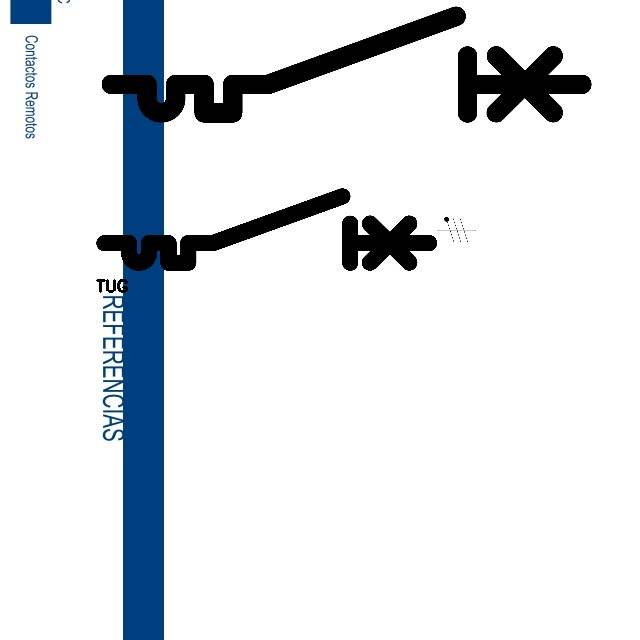interruptor_termomagnetico: (99, 4, 594, 125), (96, 188, 437, 271)
